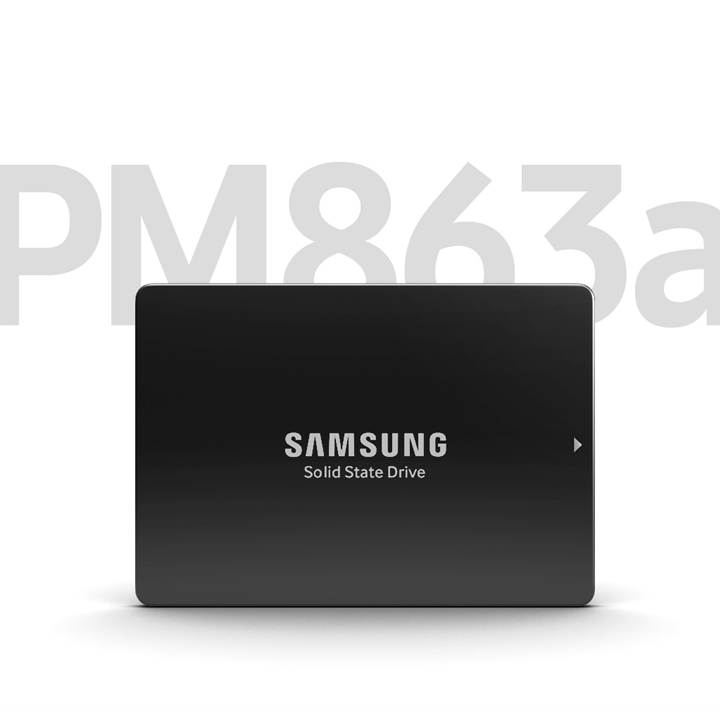samsung-hdd-240gb: (112, 274, 619, 625)
